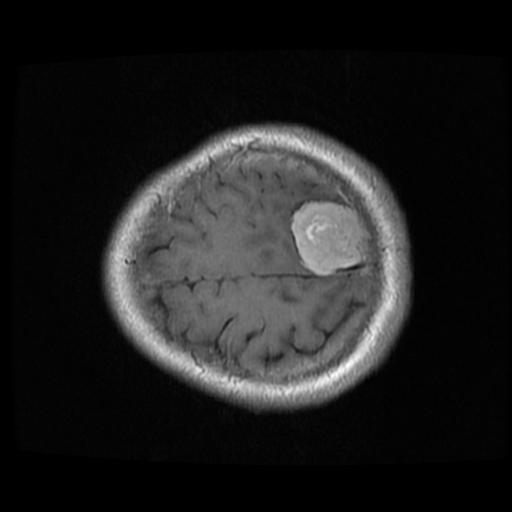meningioma: (290, 200, 370, 277)
